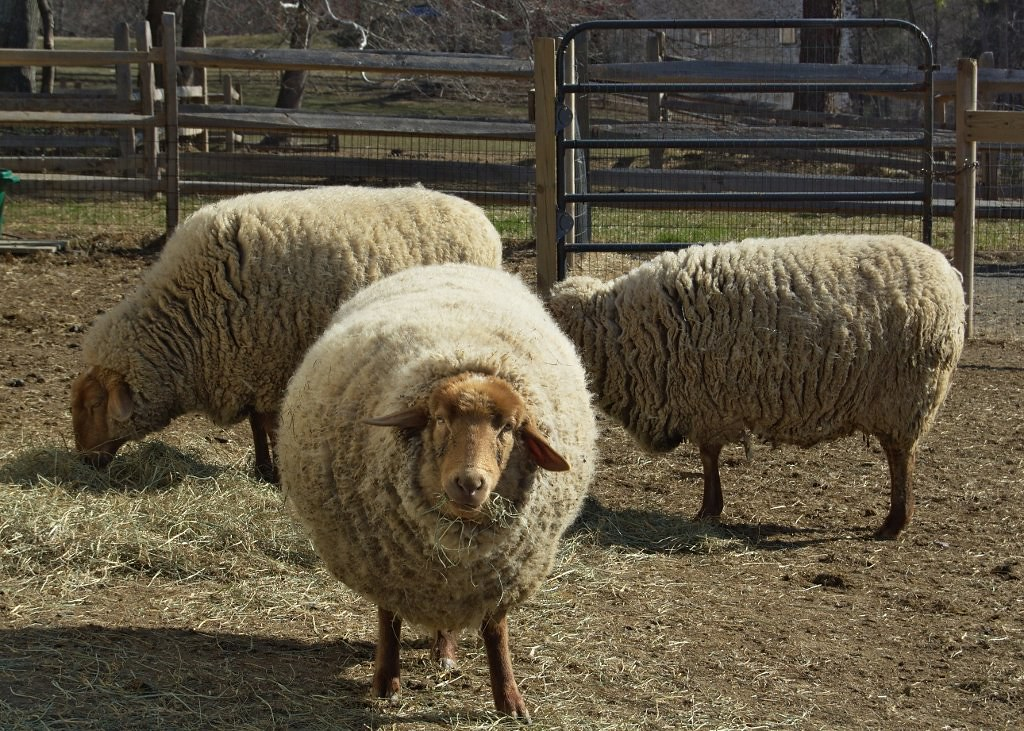sheep: (274, 262, 613, 722), (64, 222, 287, 500)
